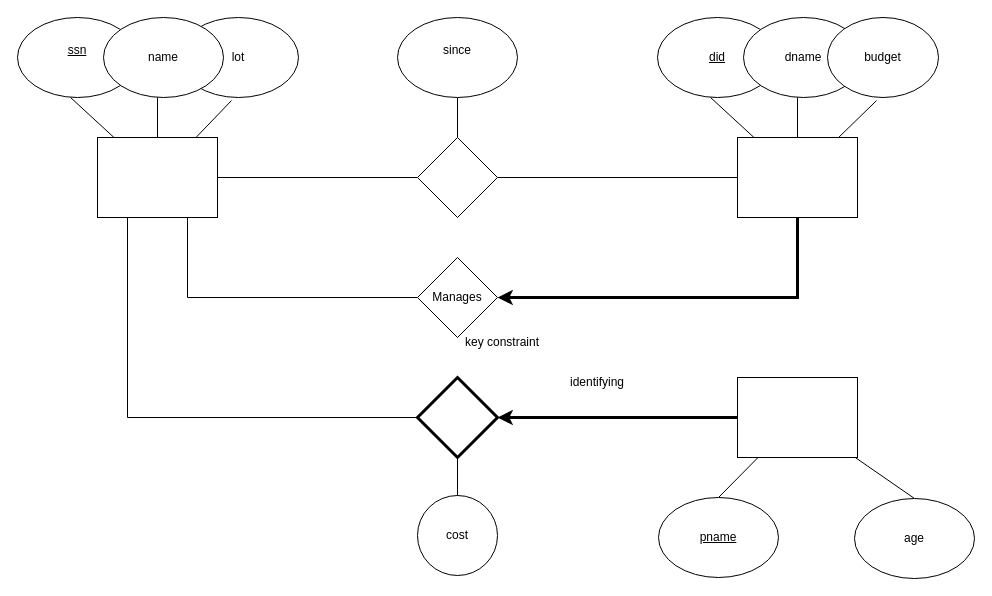
This 992x596 diagram has some shape labels left out. The shapes that lost their labels are listed below. From the top down, each one's centre as x and y in pixels, then its label:
At (x=157, y=177): "Employees".
At (x=457, y=177): "Works_In".
At (x=797, y=177): "Departments".
At (x=457, y=417): "Policy".
At (x=797, y=417): "Dependents".
